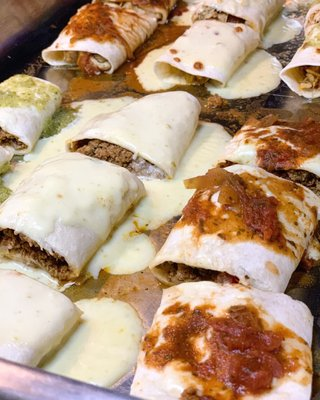sandwich: (0, 3, 319, 399), (131, 279, 314, 400)
